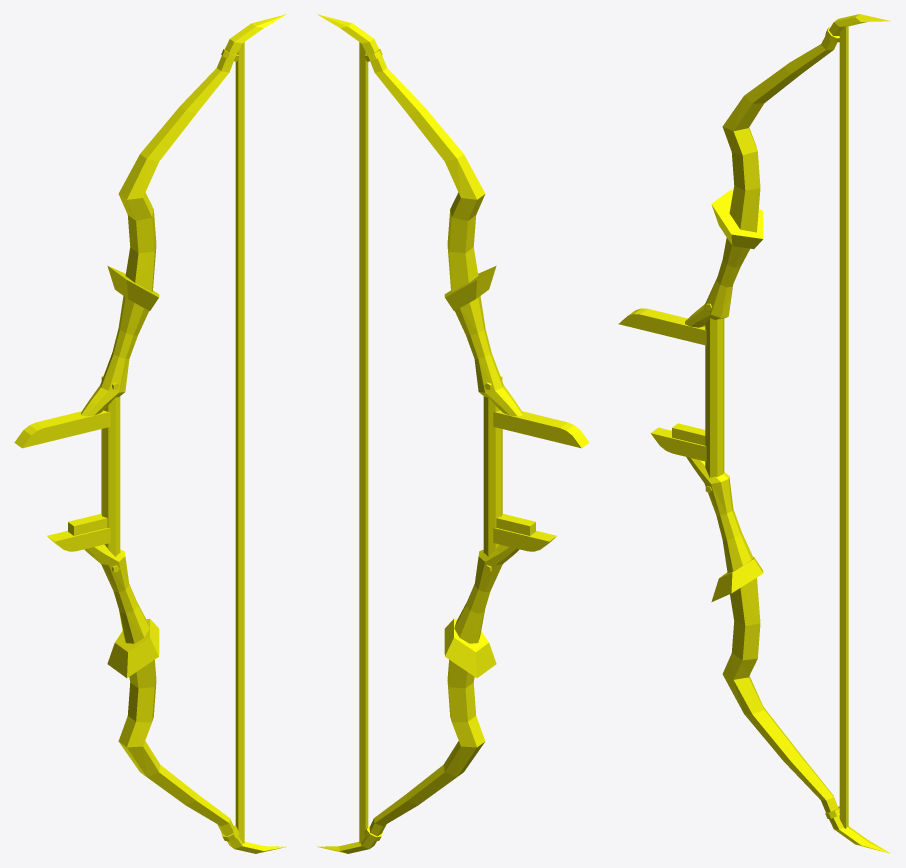
The model's file is _bow_15.glb.
The picture shows the model from 3 angles, left to right: view 1: azimuth 30°, elevation 25°; view 2: azimuth 150°, elevation 25°; view 3: azimuth 330°, elevation 25°; orthographic projection.
Parts seen in each view (by area): view 1: bow_15; view 2: bow_15; view 3: bow_15.
Boxes of the visible parts, x1,y1,x2,y2 form: bow_15: (14, 14, 286, 853); bow_15: (317, 14, 589, 853); bow_15: (618, 14, 890, 853).
Bounding box in the file's own units: 10401 × 30722 × 2119.
